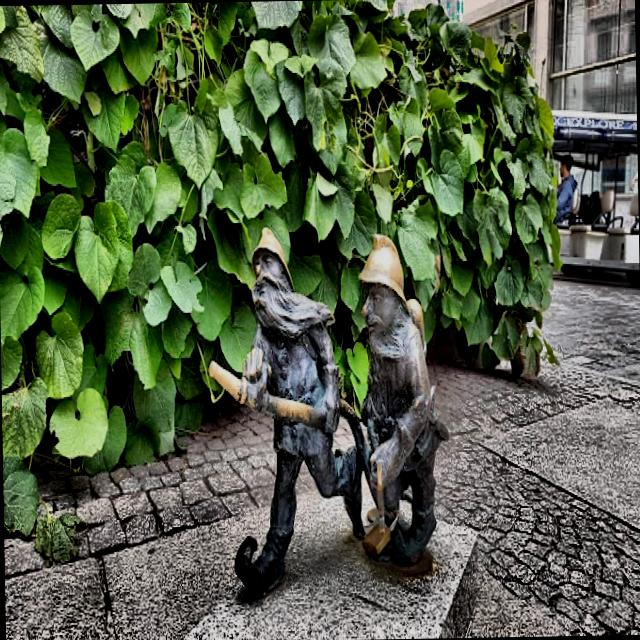Pozarki: (208, 229, 448, 594)
